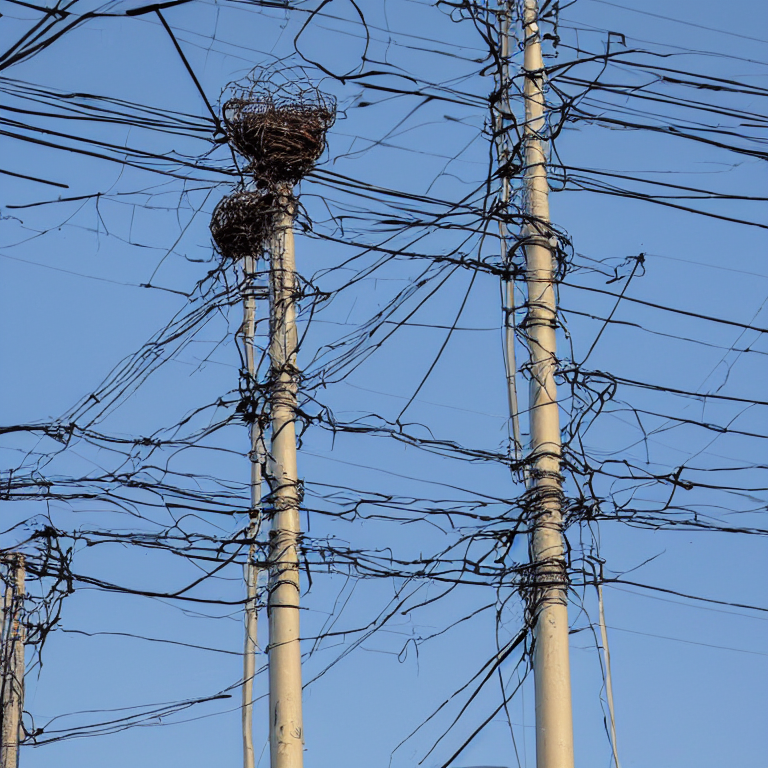nest: (231, 102, 323, 178), (205, 192, 295, 251)
